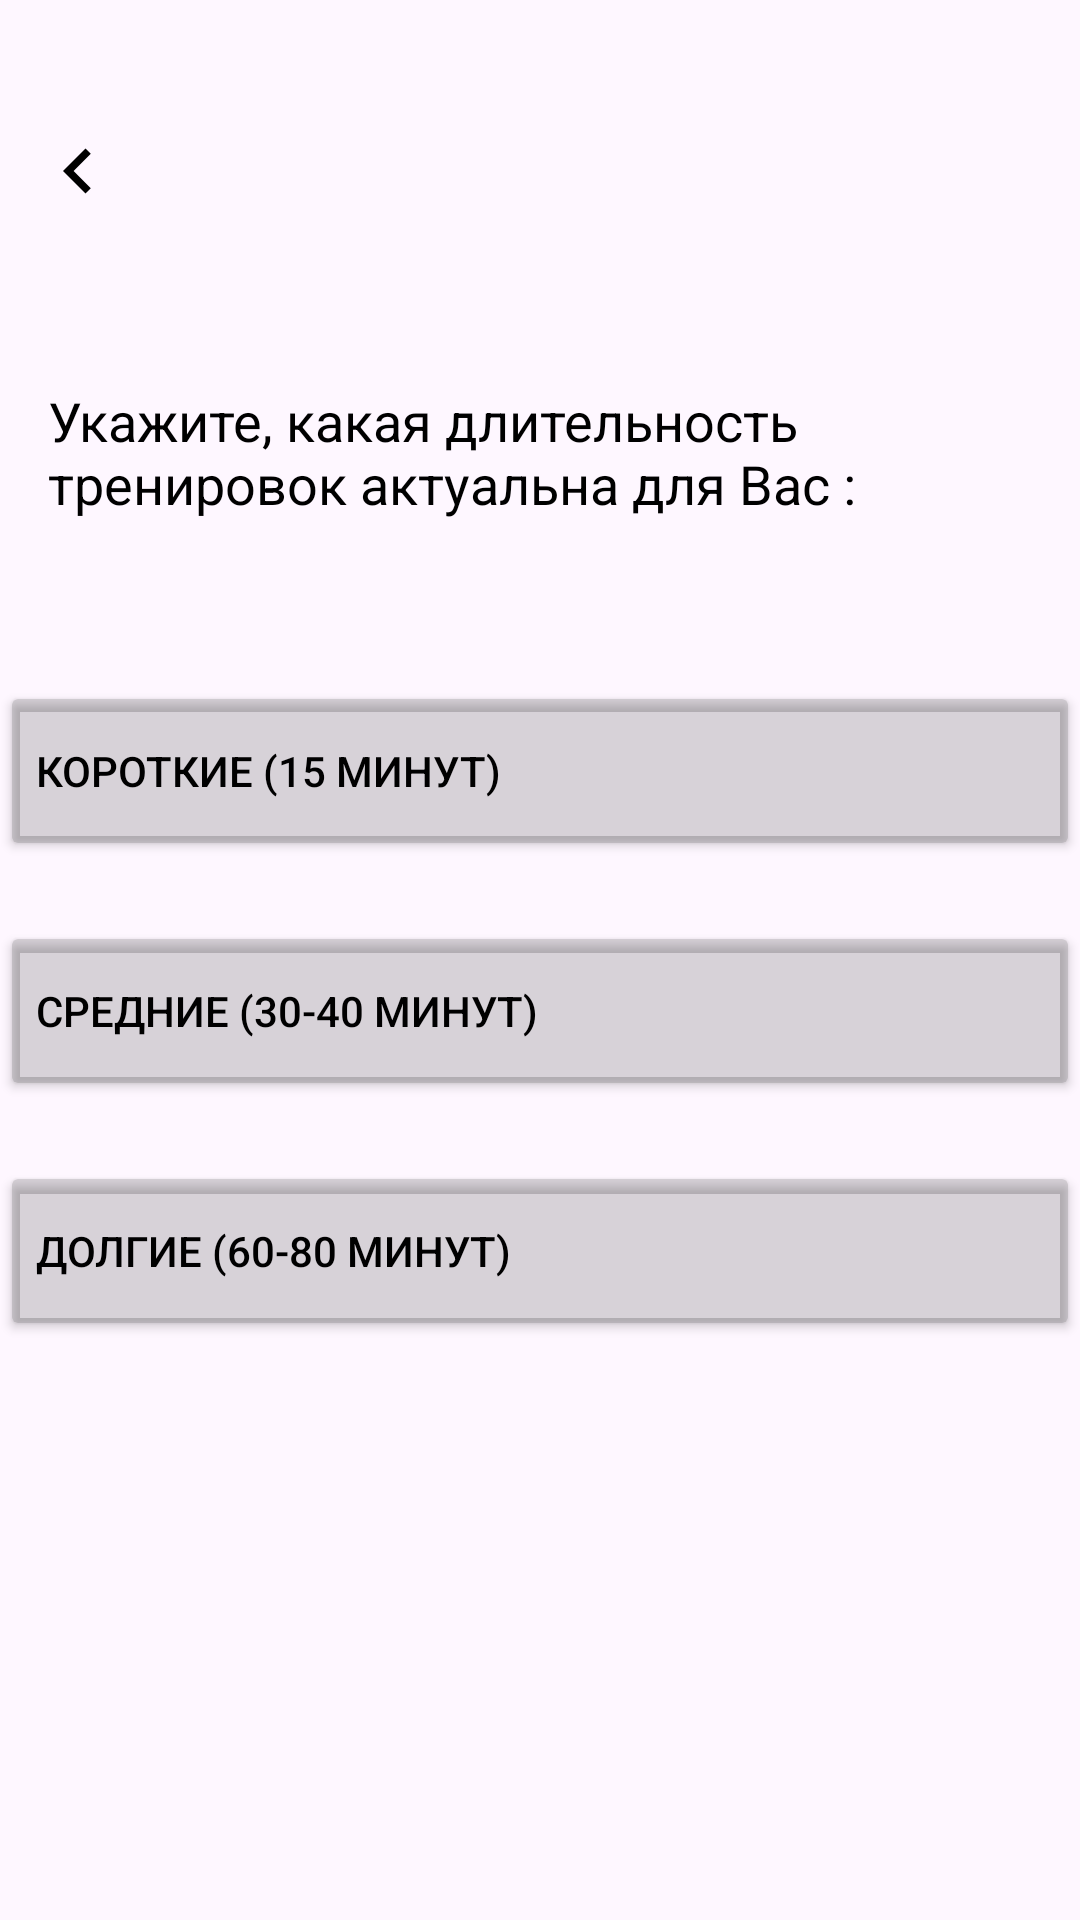

Where icons sit on this 1080×1920 app screen, as detection(x1, y1, x2, y2):
Нажмите, если хотите вернуться на предыдущий экран: detection(63, 148, 91, 194)
